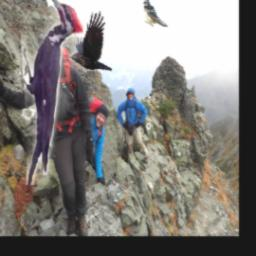Crow: (68, 10, 112, 71)
Swallow: (142, 0, 174, 27)
Woodpecker: (21, 0, 83, 186)
